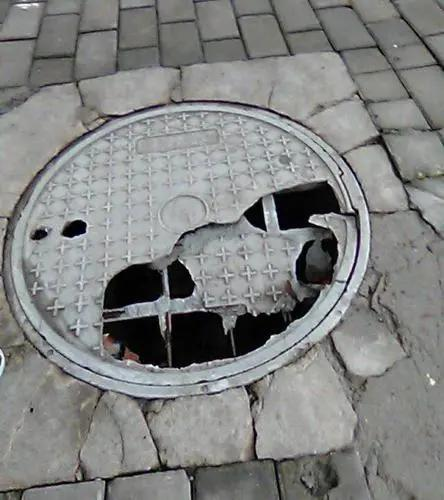wellcover: (1, 82, 363, 381)
